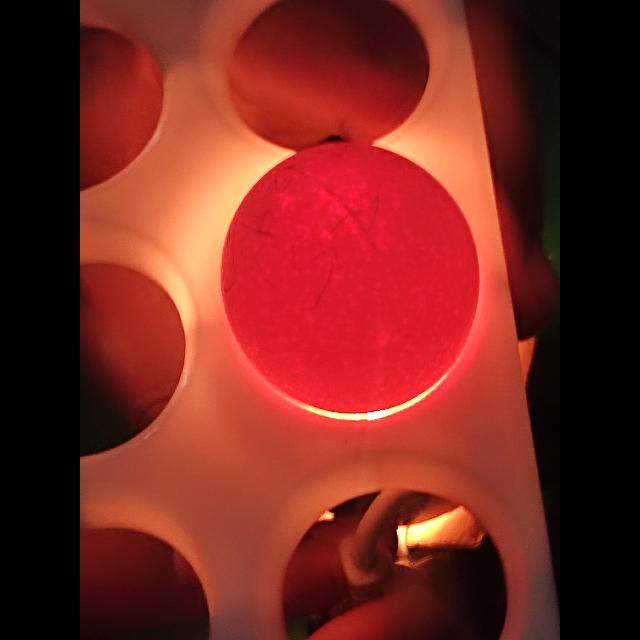Infertile: (218, 136, 484, 418)
